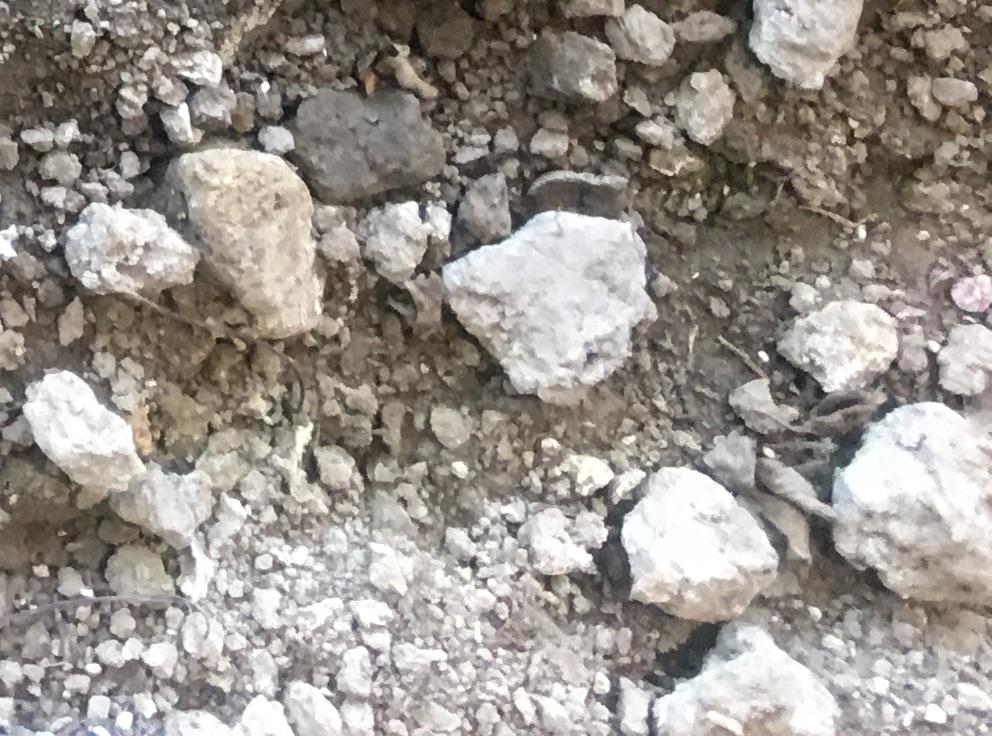block: (442, 210, 653, 406), (824, 402, 992, 591), (158, 148, 319, 345), (611, 462, 768, 625), (649, 617, 841, 736), (271, 87, 451, 204), (24, 370, 141, 503), (58, 199, 200, 303), (773, 297, 910, 397), (748, 1, 868, 96)
